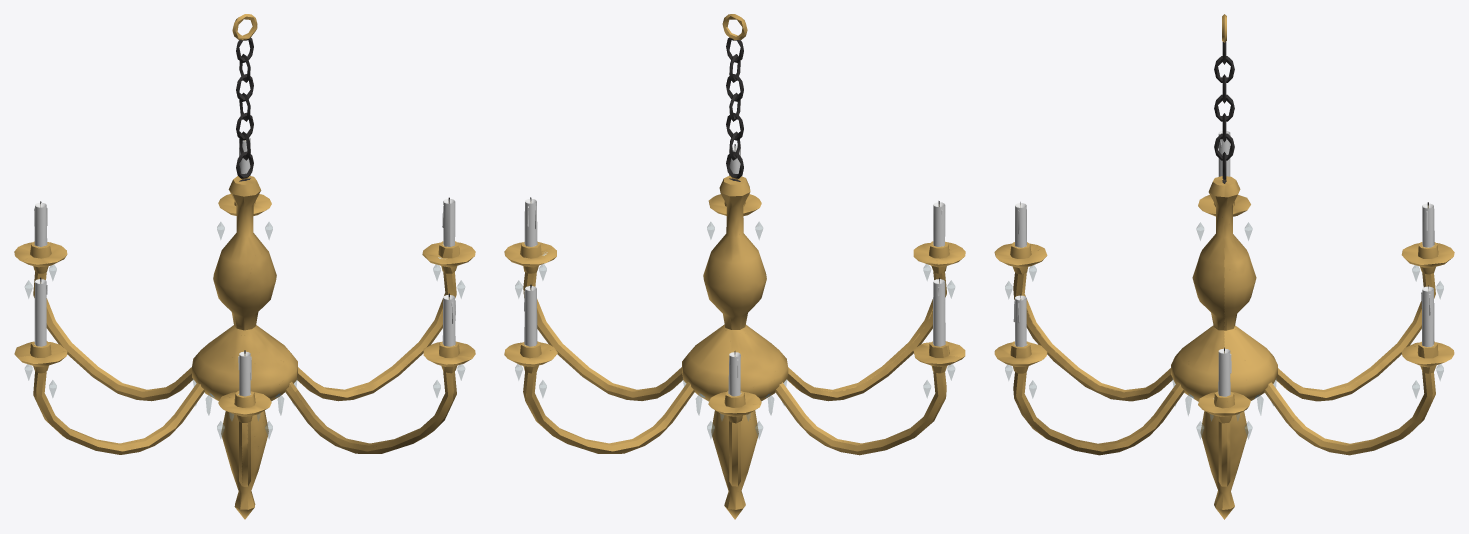
File: Chandelier.fbx
The picture shows the model from 3 angles, left to right: view 1: azimuth 30°, elevation 25°; view 2: azimuth 150°, elevation 25°; view 3: azimuth 270°, elevation 25°; orthographic projection.
Visible parts, largest first — view 1: Chandelier; view 2: Chandelier; view 3: Chandelier.
Part boxes in pixels (x1,y1,x2,y2): Chandelier: [14, 14, 475, 519]; Chandelier: [504, 14, 965, 519]; Chandelier: [994, 14, 1454, 519].
Size of the model in its own units: 0.9784 by 1.04 by 0.8612.
